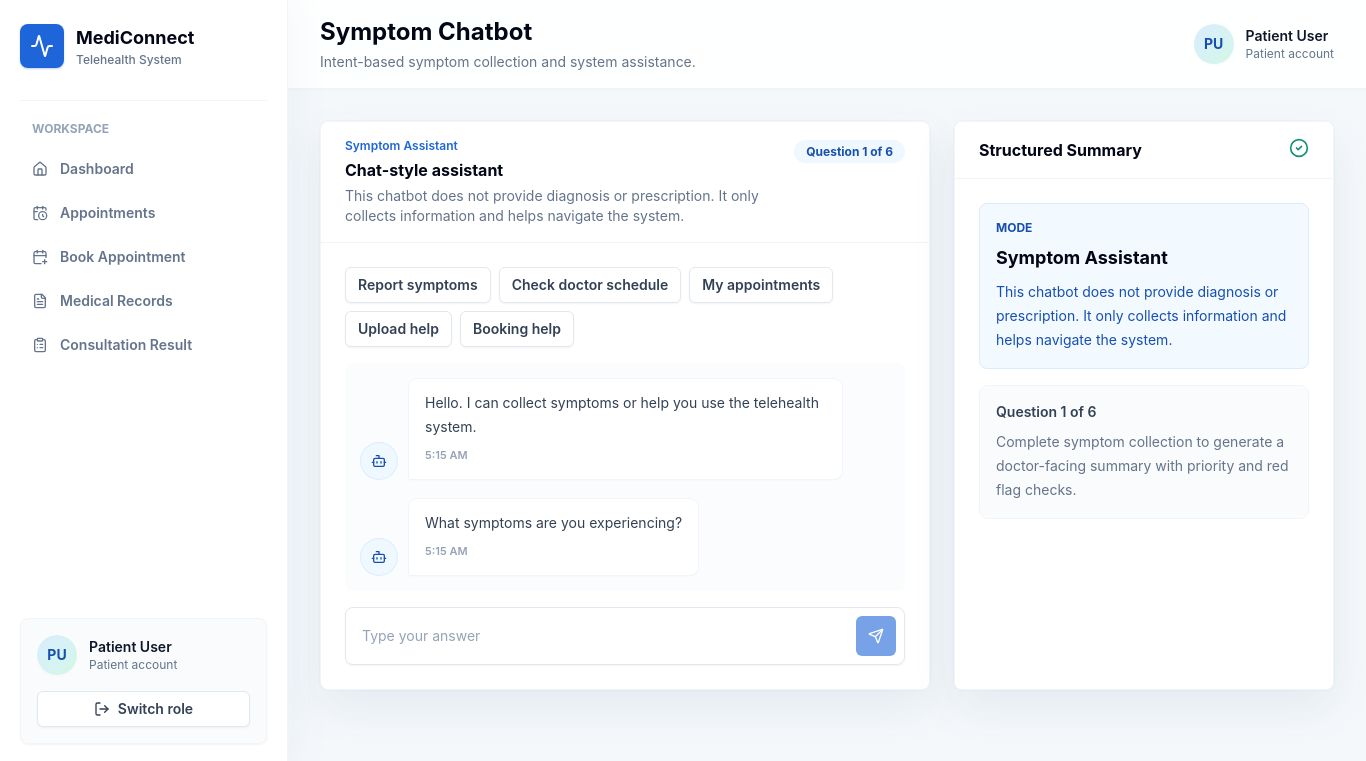
Test: Telehealth frontend routes › shows emergency warning without diagnosis or prescription
Type "I have difficulty breathing and feel unconscious" into the field with placeholder "Type your answer" at (599, 636), box [354,616,844,656]
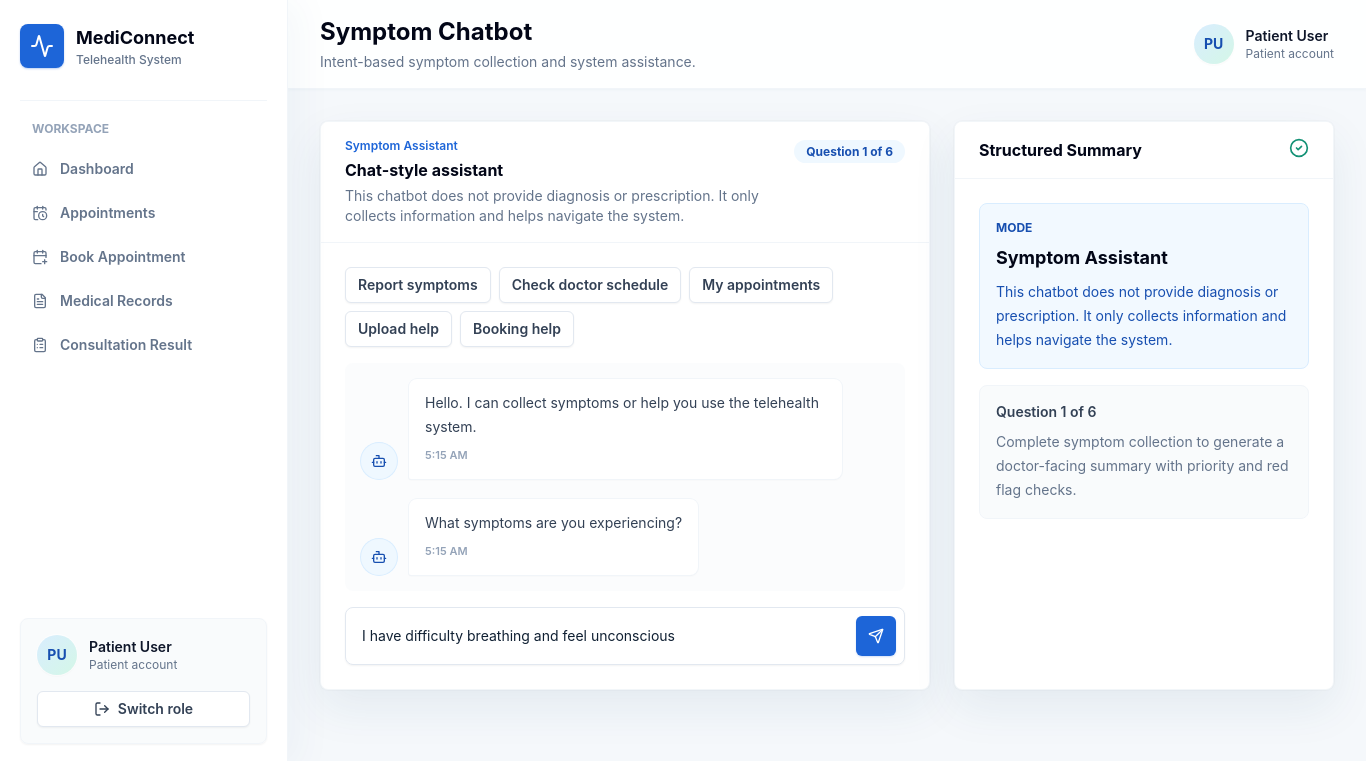
Click the button named "send answer" at (876, 636), box [856,616,896,656]
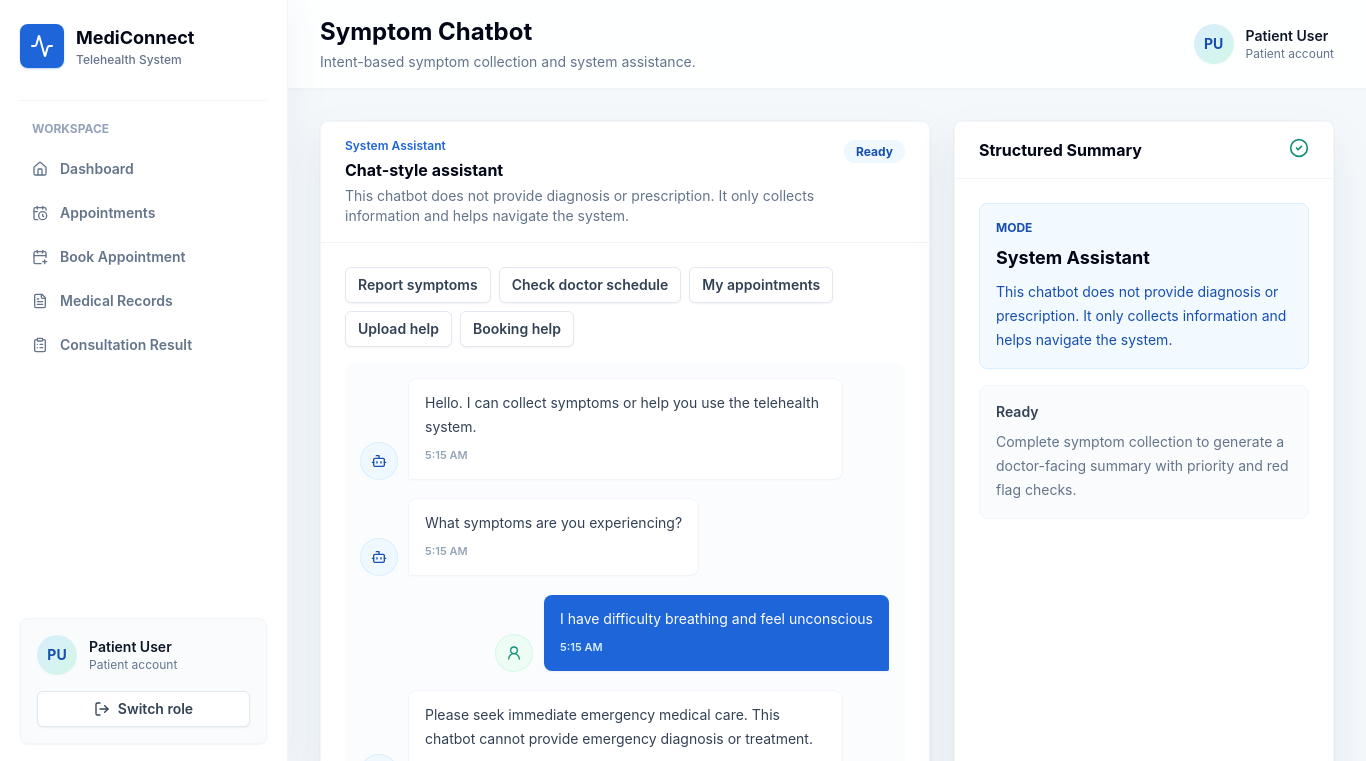
Result: the text "Please seek immediate emergency medical care" is shown at [425,706,813,747]
